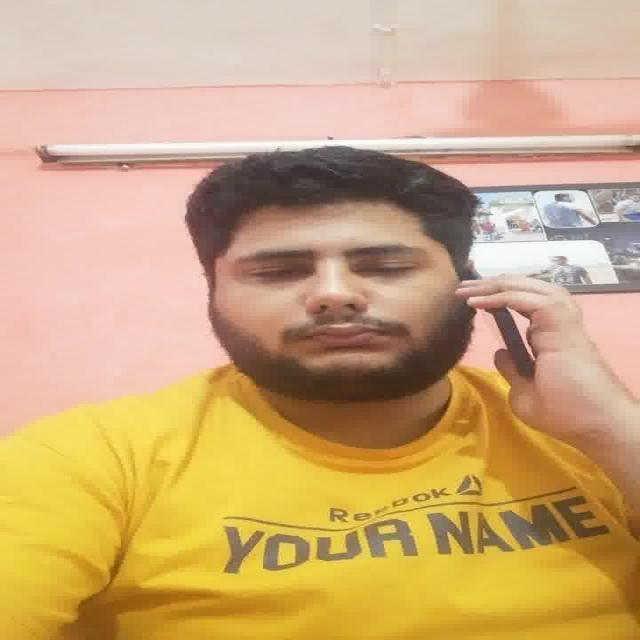Phone: (467, 270, 541, 384)
